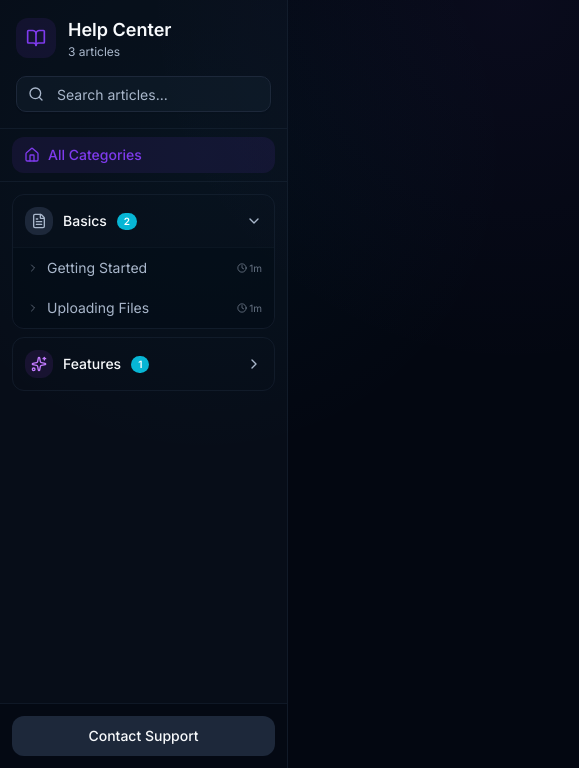
Test: HelpSidebar › should render all article titles
Check: the text "Getting Started" is shown, box [47,259,147,276]
Check: the text "Uploading Files" is shown, box [47,299,149,316]
// Features category needs to be expanded first
Click the text "Features": (92, 364) [63,354,121,374]
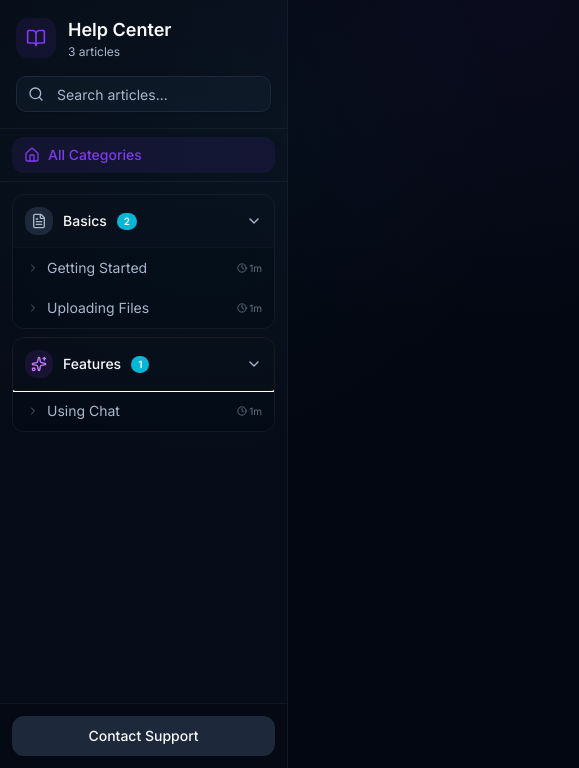
Check: the text "Using Chat" is shown, box [47,402,120,419]
